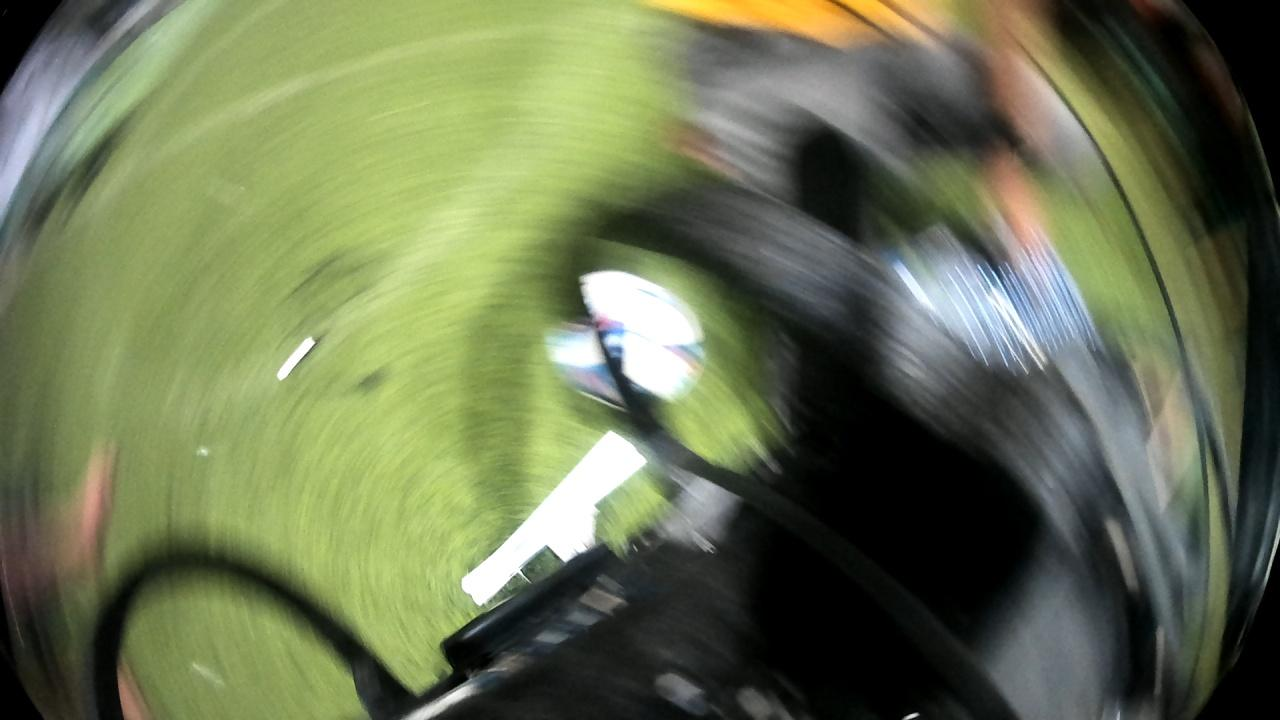ball: (539, 267, 713, 417)
